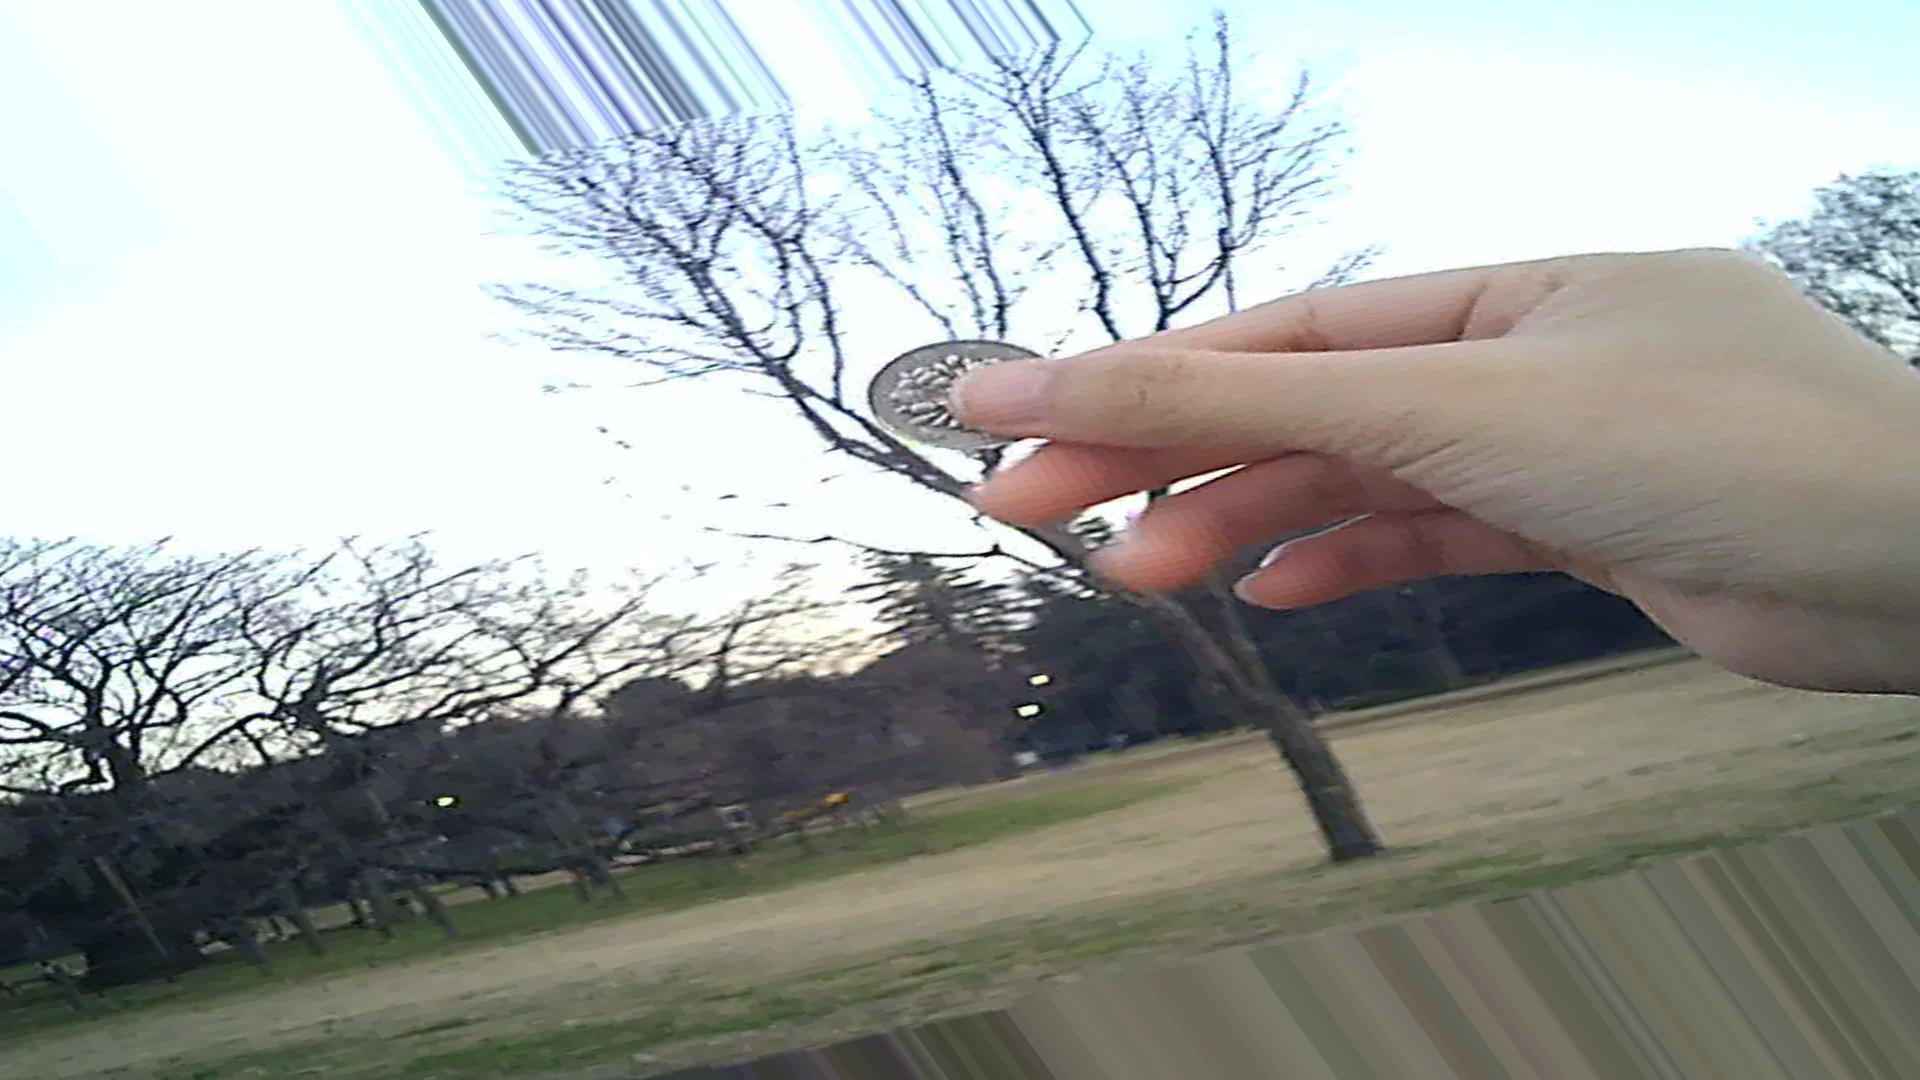100 Yen: (864, 334, 1046, 442)
